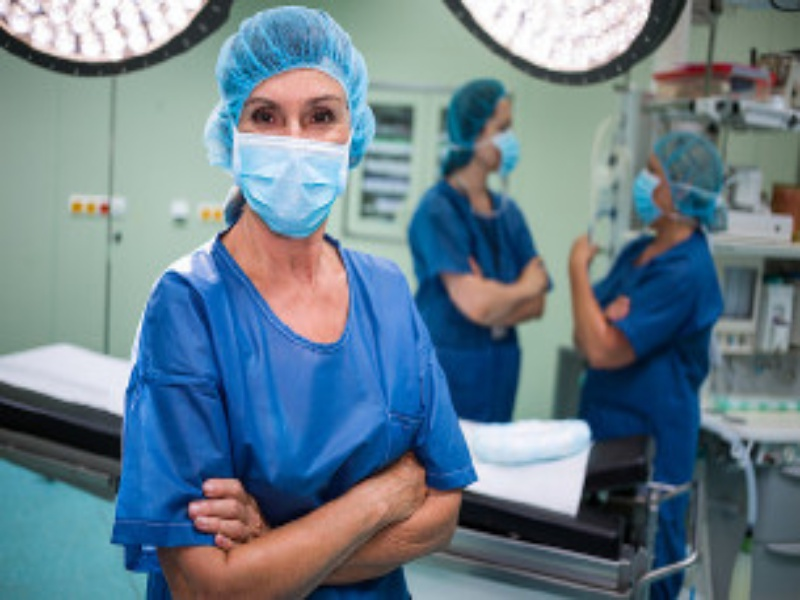mask: (215, 11, 382, 229), (628, 124, 742, 243), (447, 76, 522, 186)
